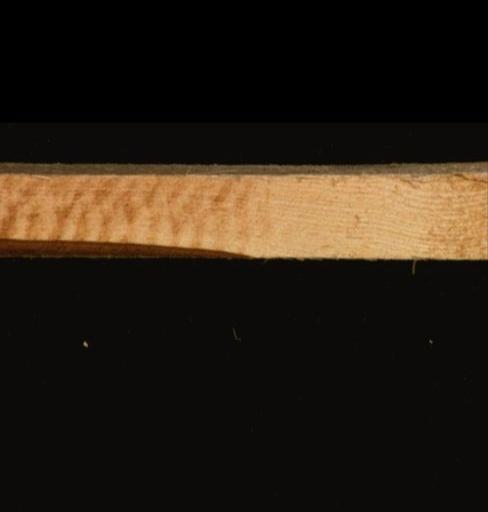wave: (0, 159, 486, 176), (0, 236, 259, 257)
